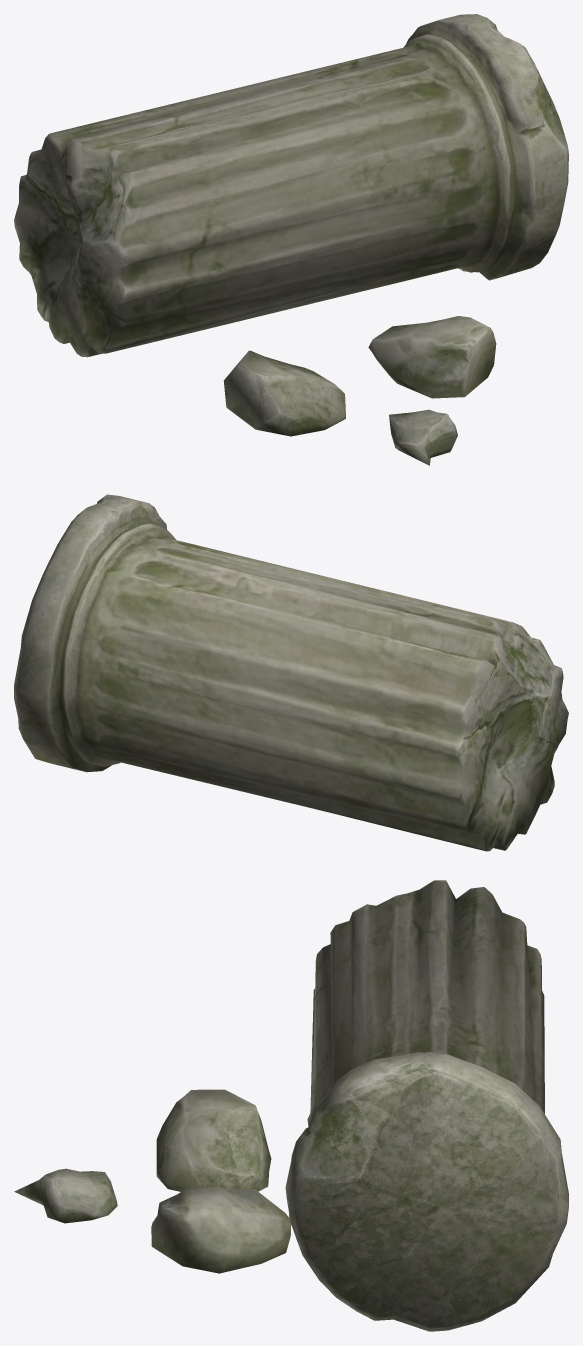
The model's file is column_broken.glb.
3 renders of one model, top to bottom at view 1: azimuth 30°, elevation 25°; view 2: azimuth 150°, elevation 25°; view 3: azimuth 270°, elevation 25°, orthographic. The views are drawn at different scales.
Parts seen in each view (by area): view 1: column_broken; view 2: column_broken; view 3: column_broken.
Boxes of the visible parts, left/top/right/bottom form: column_broken: left=14, top=14, right=568, bottom=465; column_broken: left=14, top=494, right=568, bottom=851; column_broken: left=14, top=880, right=568, bottom=1331.
Bounding box in the file's own units: 0.9995 × 0.5161 × 0.9771.
1 material, 1 textured.
